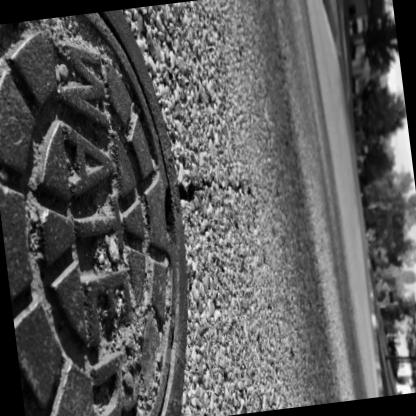manholes: (0, 3, 248, 416)
